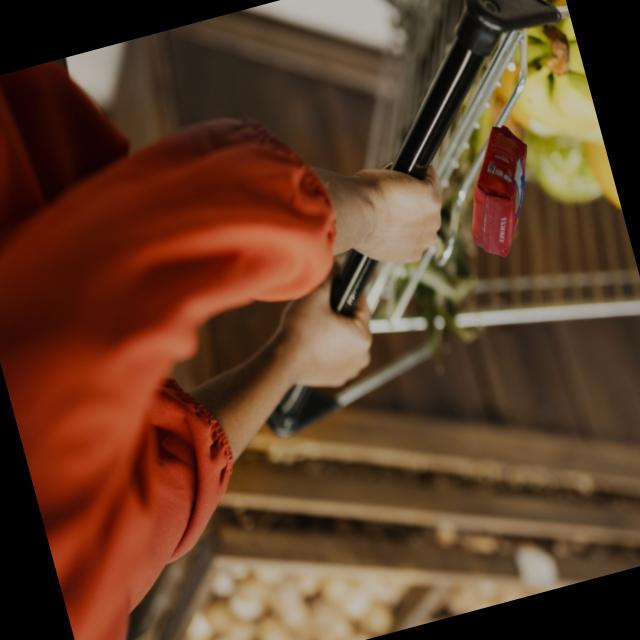mate bag: (450, 124, 550, 264)
